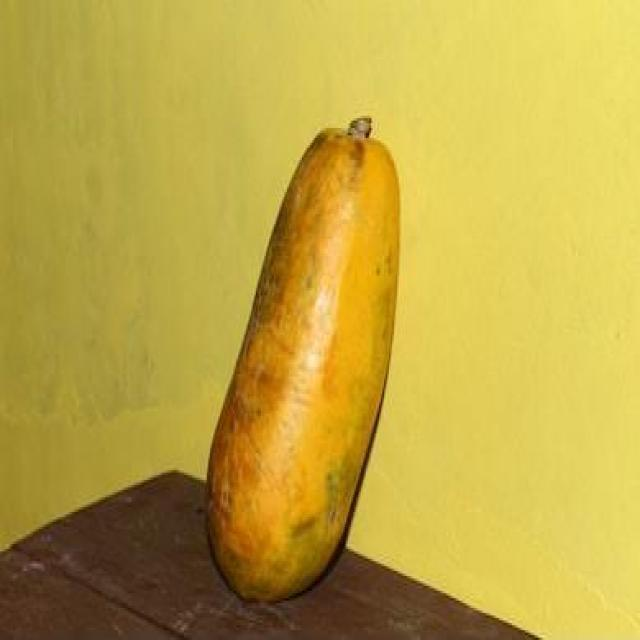Pepaya rippen: (200, 114, 410, 603)
